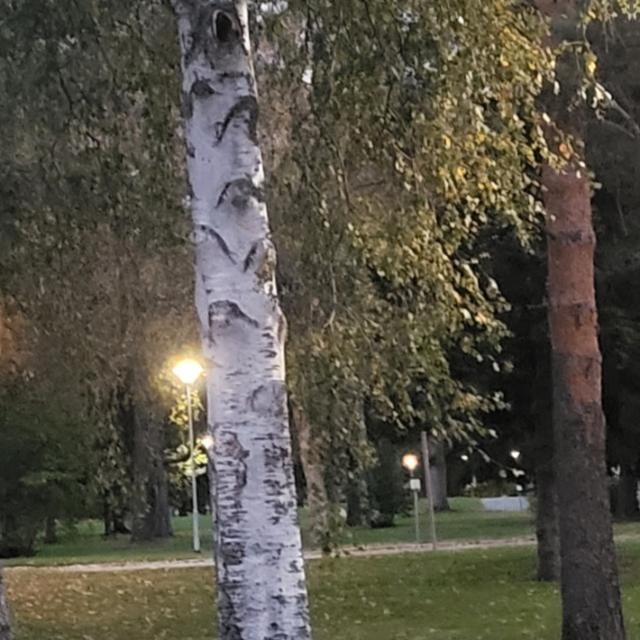birch: (124, 0, 390, 640)
